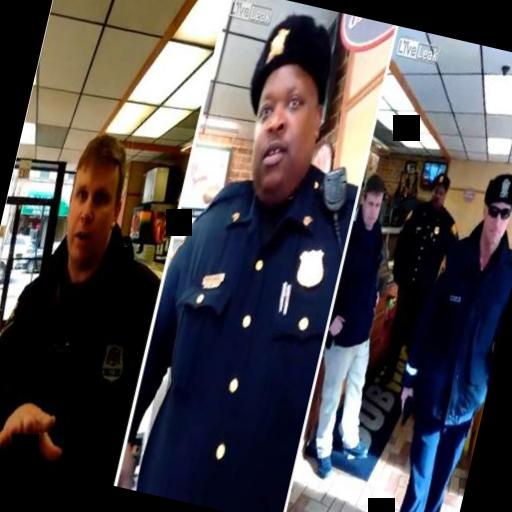Handgun: (389, 380, 422, 440)
